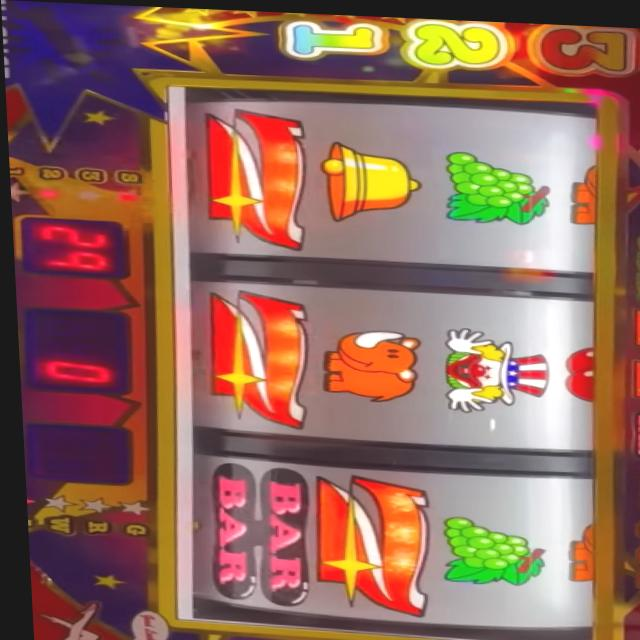bar: (196, 461, 311, 605), (621, 406, 640, 455)
bell: (313, 137, 424, 225)
cherry: (557, 339, 593, 400)
clown: (438, 323, 546, 411)
display: (139, 77, 630, 640)
elephant: (316, 325, 421, 403), (562, 157, 604, 223), (560, 516, 590, 580), (627, 534, 640, 559), (628, 508, 640, 533), (630, 558, 640, 587)
grape: (436, 146, 555, 226), (427, 512, 542, 586), (629, 274, 640, 296), (628, 253, 640, 273), (632, 230, 640, 252)
z: (305, 470, 429, 614), (195, 107, 311, 248), (200, 288, 313, 427), (622, 354, 640, 399), (626, 302, 640, 344)
